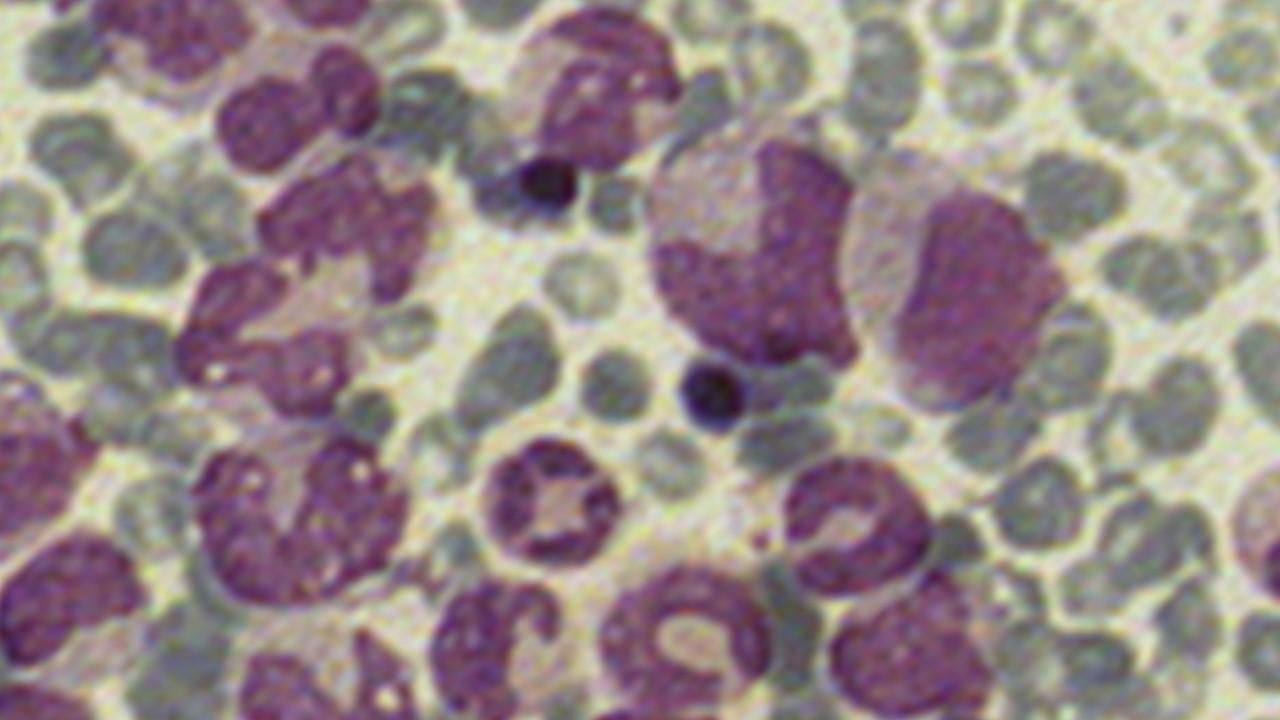RBC: (1, 229, 59, 331)
WBC: (837, 137, 1074, 420), (650, 122, 864, 367), (197, 415, 417, 613), (162, 253, 391, 429), (591, 548, 768, 718), (501, 10, 681, 173), (772, 435, 934, 603), (0, 372, 126, 584), (836, 570, 993, 720), (434, 575, 592, 720), (479, 422, 627, 576), (234, 617, 417, 720), (209, 75, 308, 179)
